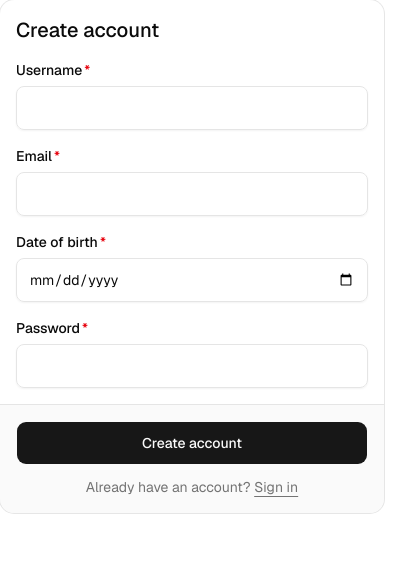
Scenario: SignUpForm › shows error on failure
Step 1. Type "alice" into the field labelled "Username*" → [192, 108], box [16,86,368,130]
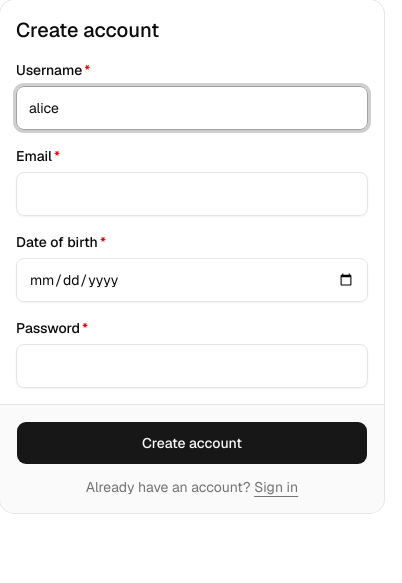
Step 2. Type "alice@example.com" into the field labelled "Email*" → [192, 194], box [16,172,368,216]
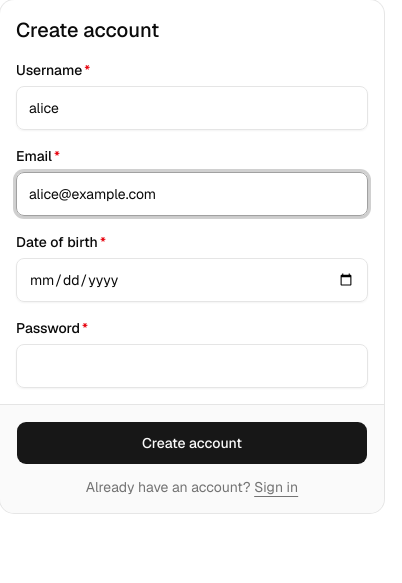
Step 3. Type "2000-01-15" into the date field labelled "Date of birth*" → [192, 280], box [16,258,368,302]
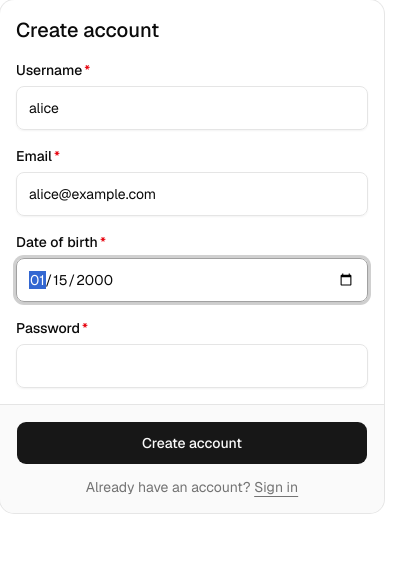
Step 4. Type "password1" into the password field labelled "Password*" → [192, 366], box [16,344,368,388]
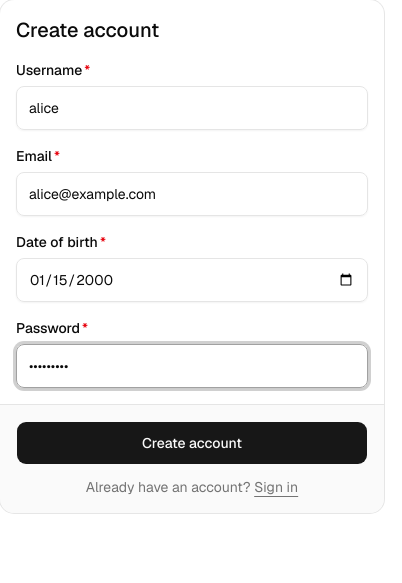
Step 5. Click the button "Create account" → [192, 443], box [16,421,368,465]
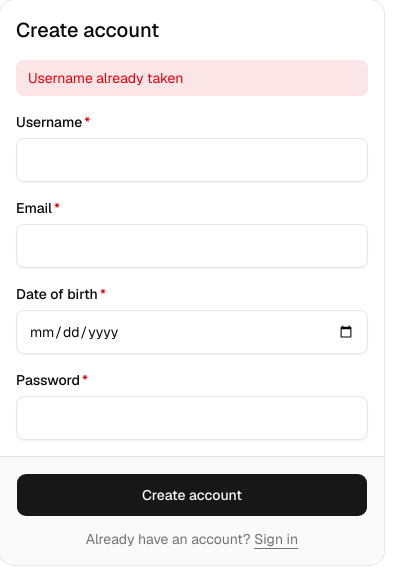
Expected: the message reads "Username already taken", [28,69,183,87]
